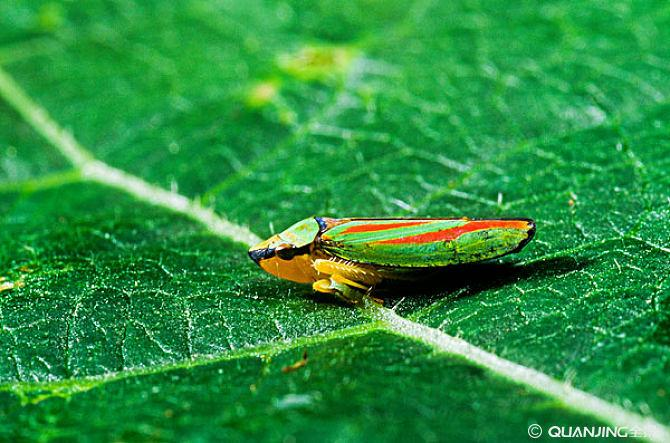Cicadellidae: (247, 208, 539, 306)
